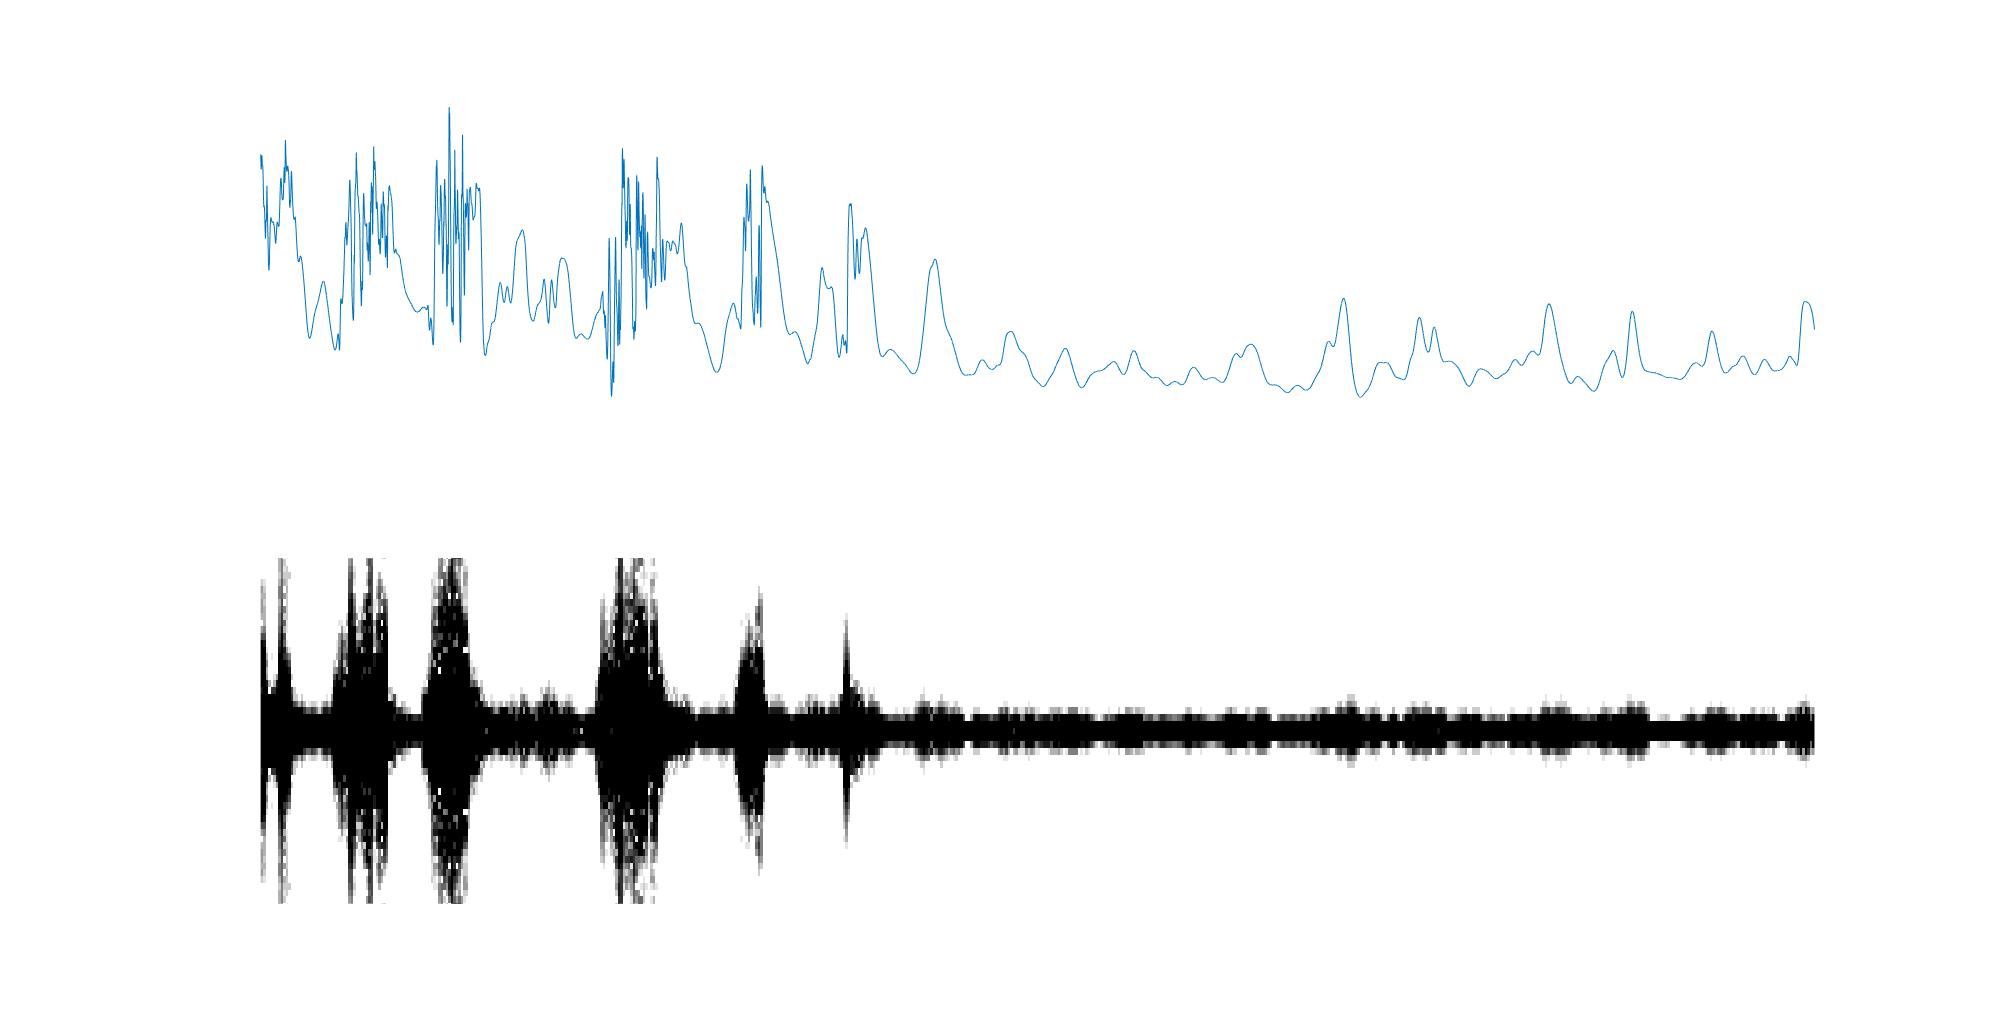kangaroo: (595, 559, 668, 914), (332, 557, 398, 907), (431, 555, 481, 912), (732, 587, 781, 876)
